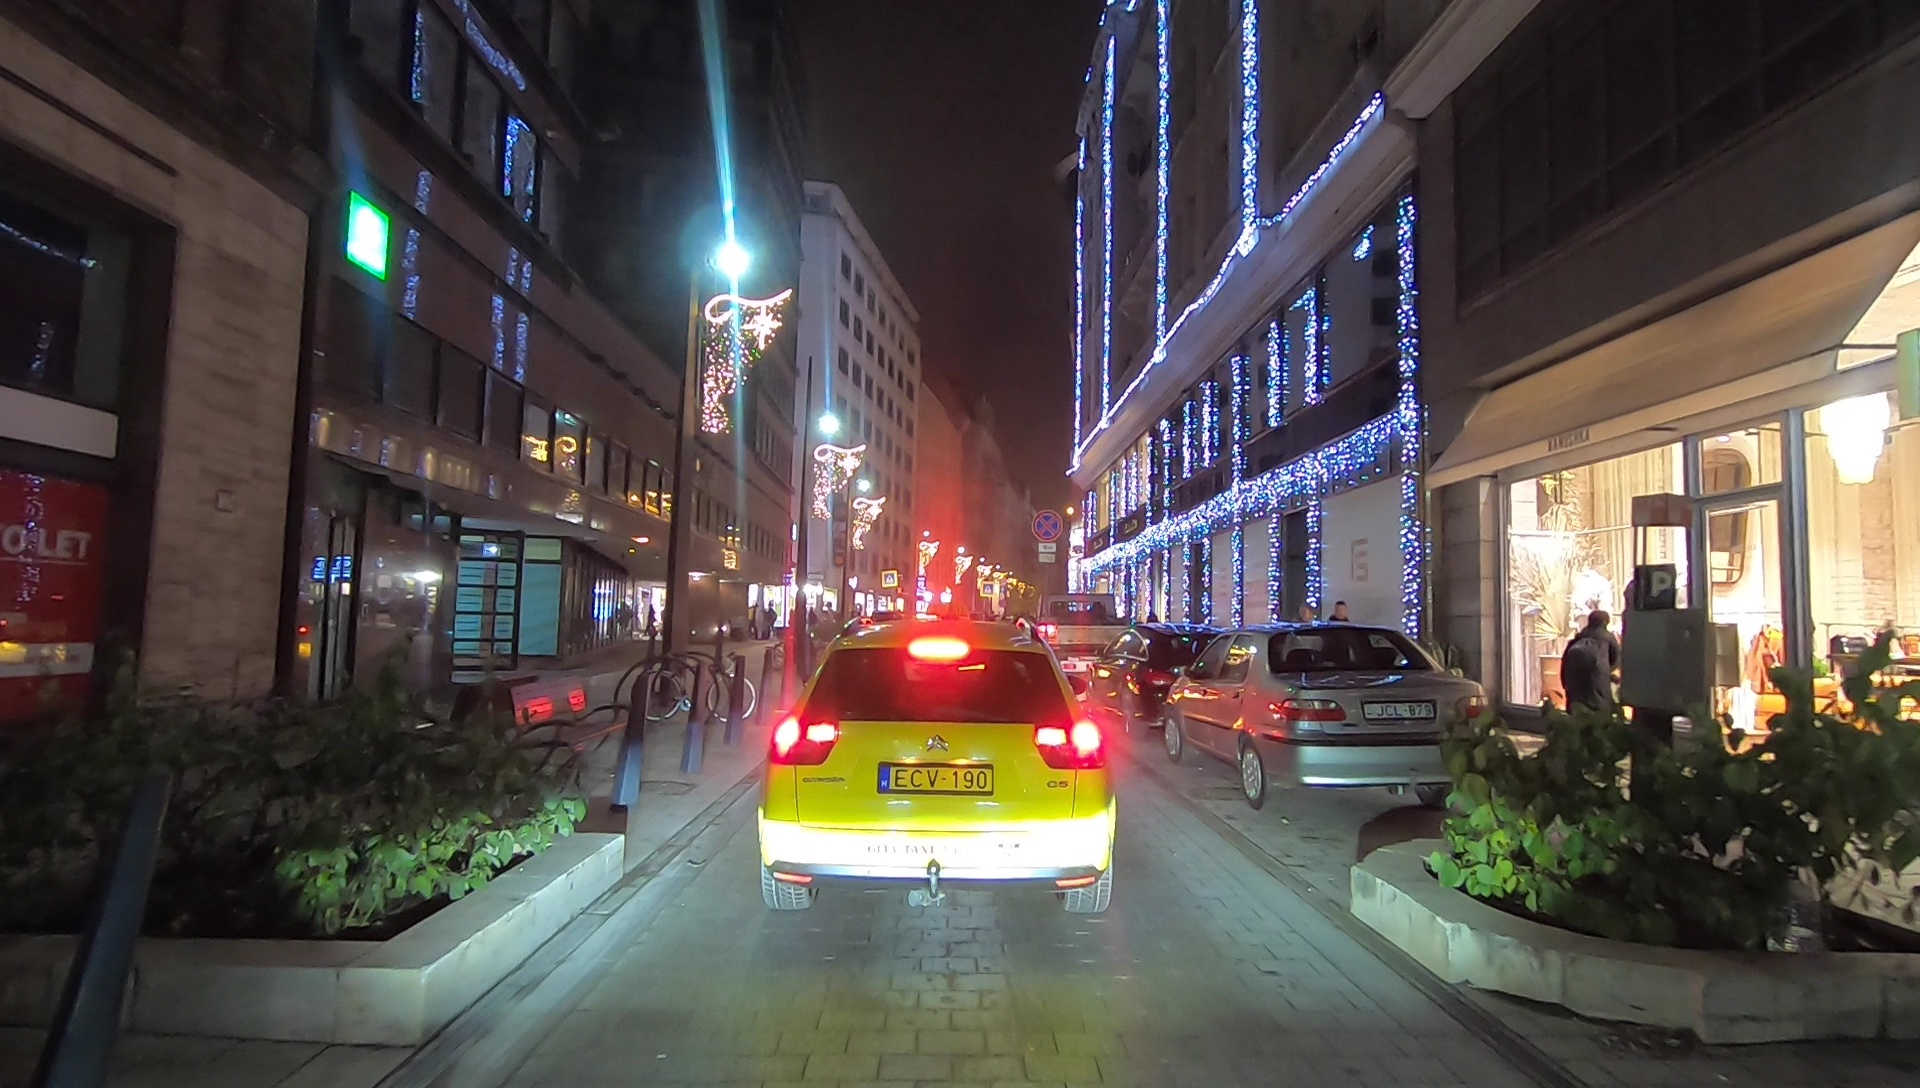person: (1554, 608, 1619, 760)
